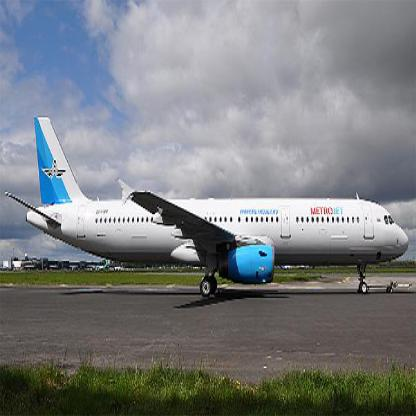CIV_Plane: (0, 107, 411, 320)
